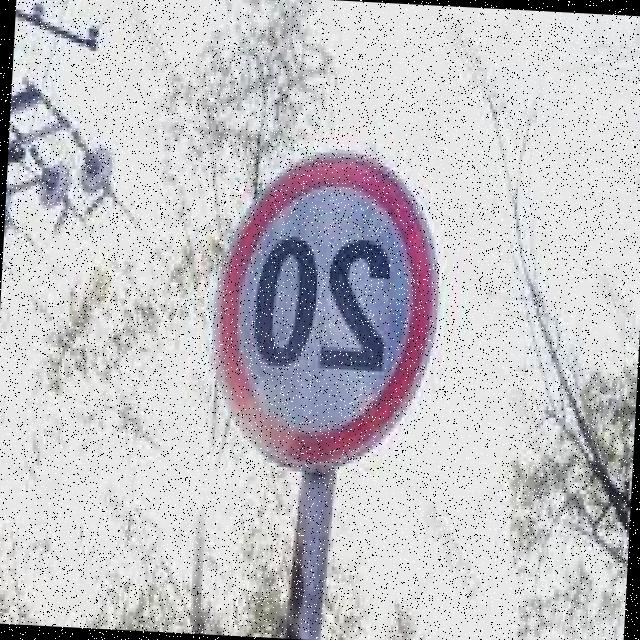speed_limit_20: (203, 138, 450, 476)
